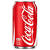coke: (21, 3, 34, 44)
